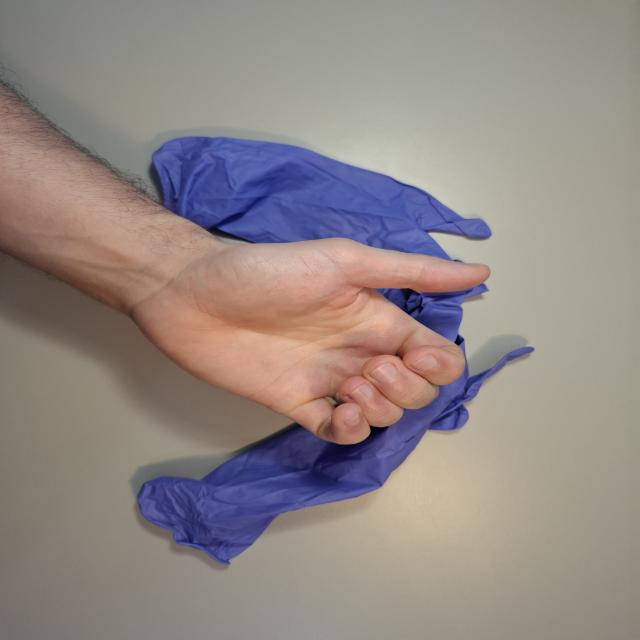glove_off: (123, 232, 494, 448)
